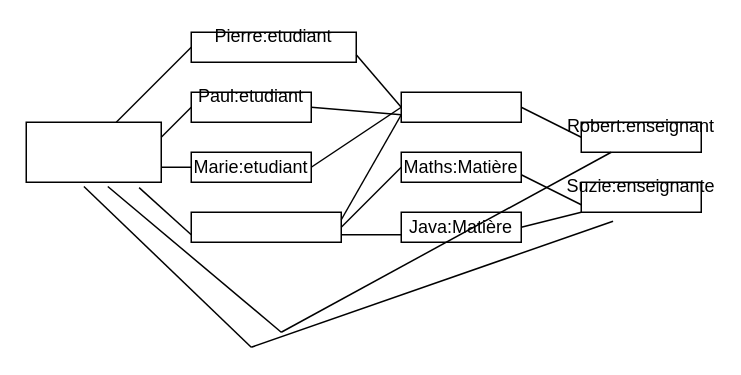
Image size: 741x375. Some labels were removed from this diagram. The shapes that lost their labels are listed below. From the top down, each one's centre as x and y in pixels, then its label:
At (x=460, y=106): "C:Matière".
At (x=93, y=151): "IF:département".
At (x=265, y=226): "Jacques:etudiant".
